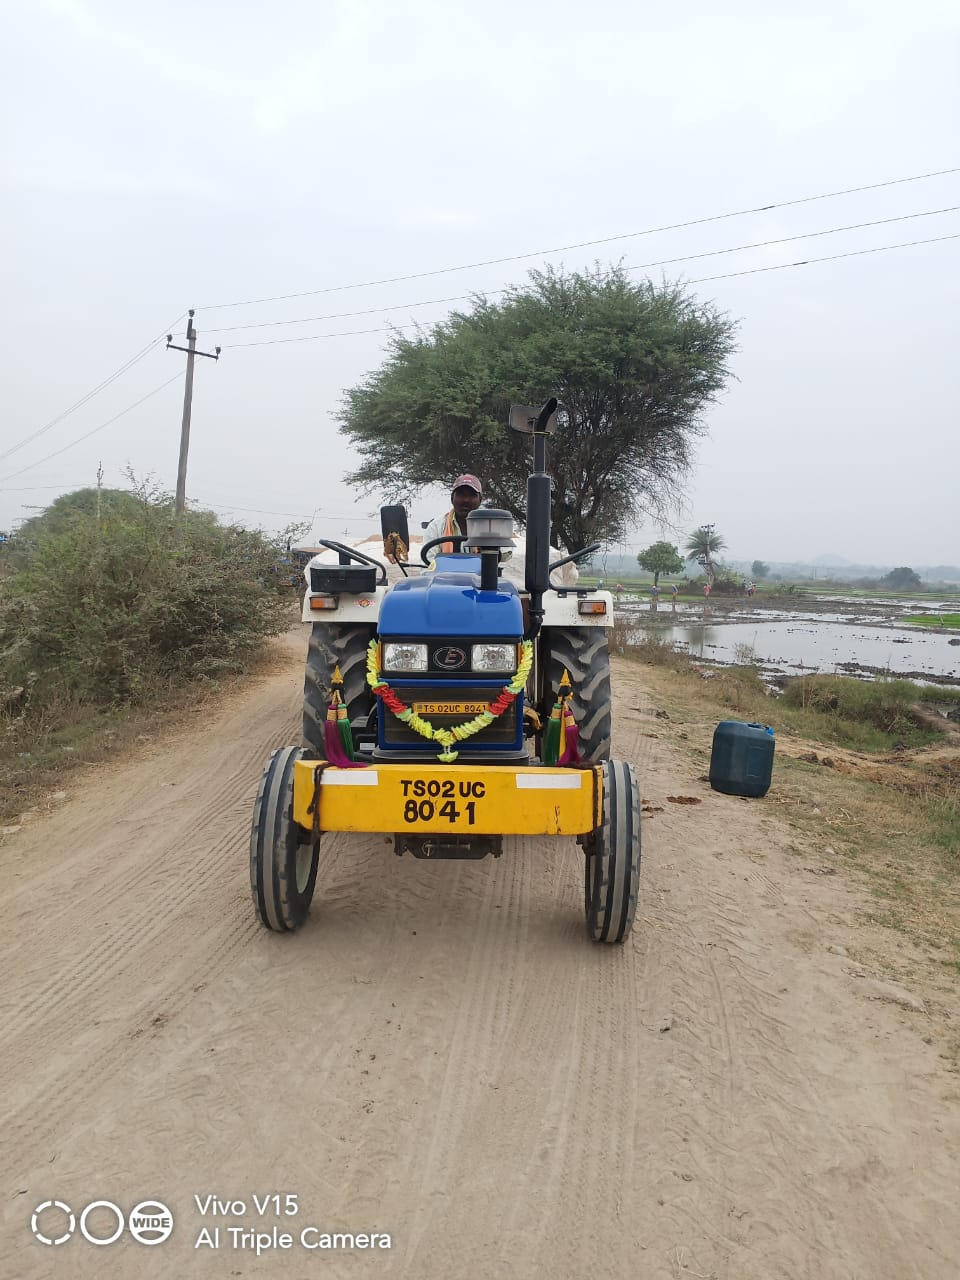license_plate: (392, 766, 494, 833)
